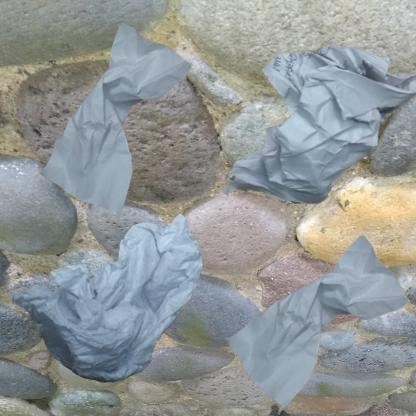papel: (213, 10, 416, 275), (10, 10, 230, 246), (213, 213, 416, 416), (10, 213, 203, 383)
